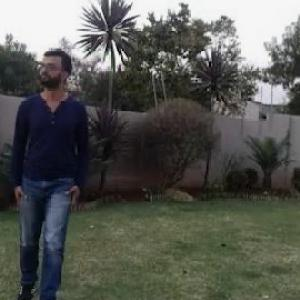follow: (3, 23, 94, 299)
